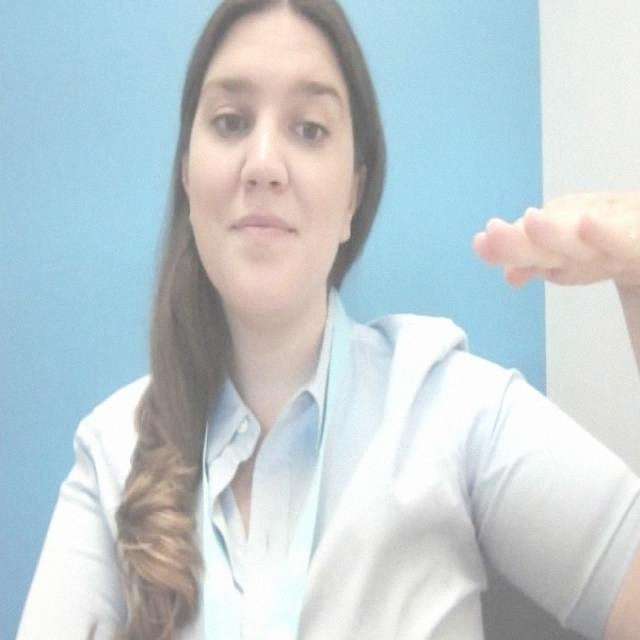Paper: (466, 172, 640, 324)
